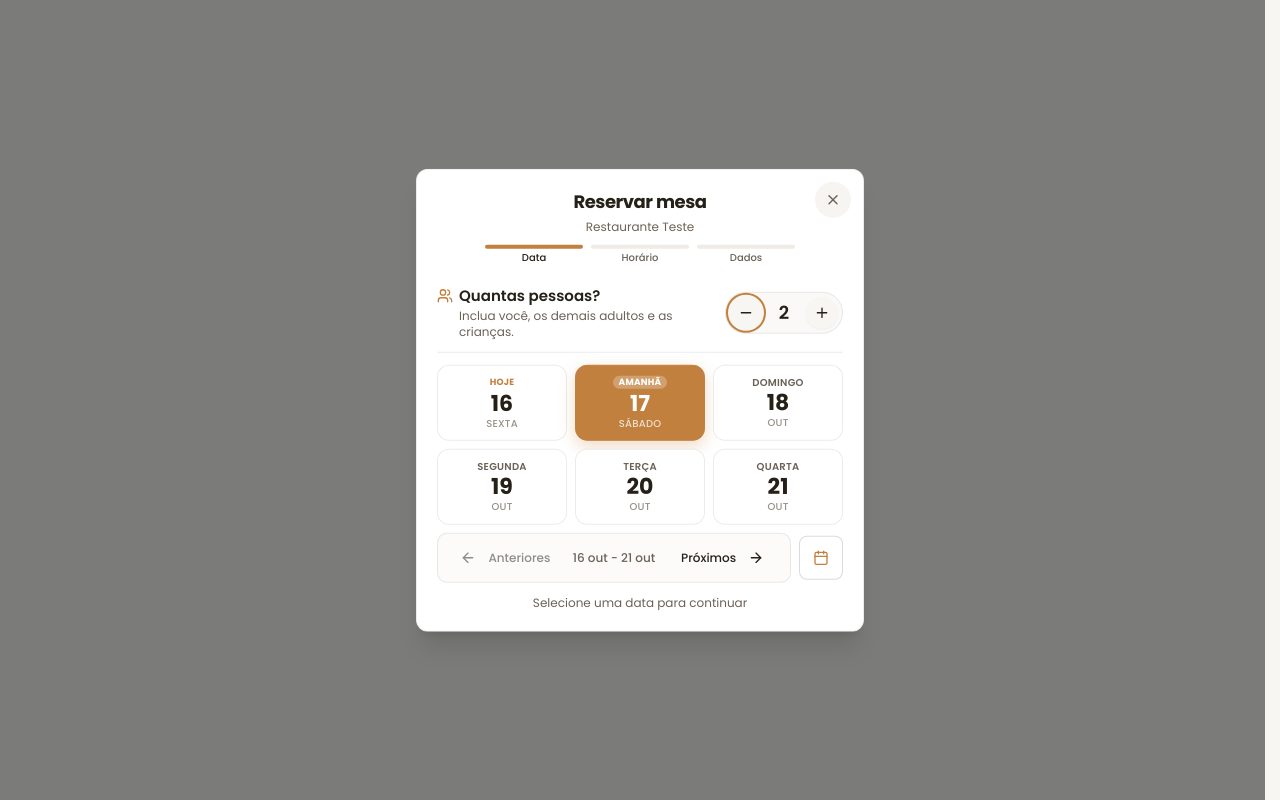
Scenario: ReservationModal › nao avanca com a resposta de uma quantidade que foi alterada durante a consulta
Click the button "Amanhã 17 sábado" at {"x": 640, "y": 402}, box [575, 364, 705, 440]
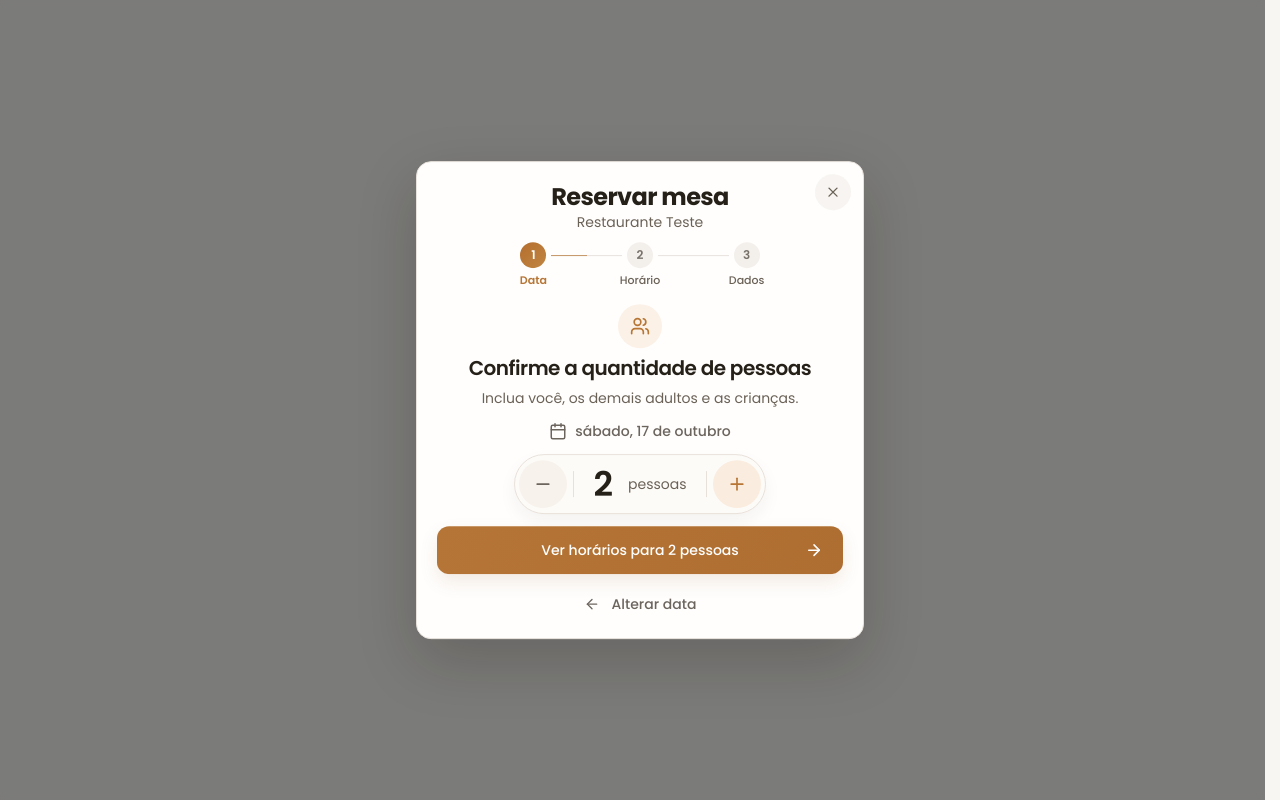
Click the button named "Aumentar número de pessoas" at {"x": 737, "y": 484}, box [713, 460, 761, 508]
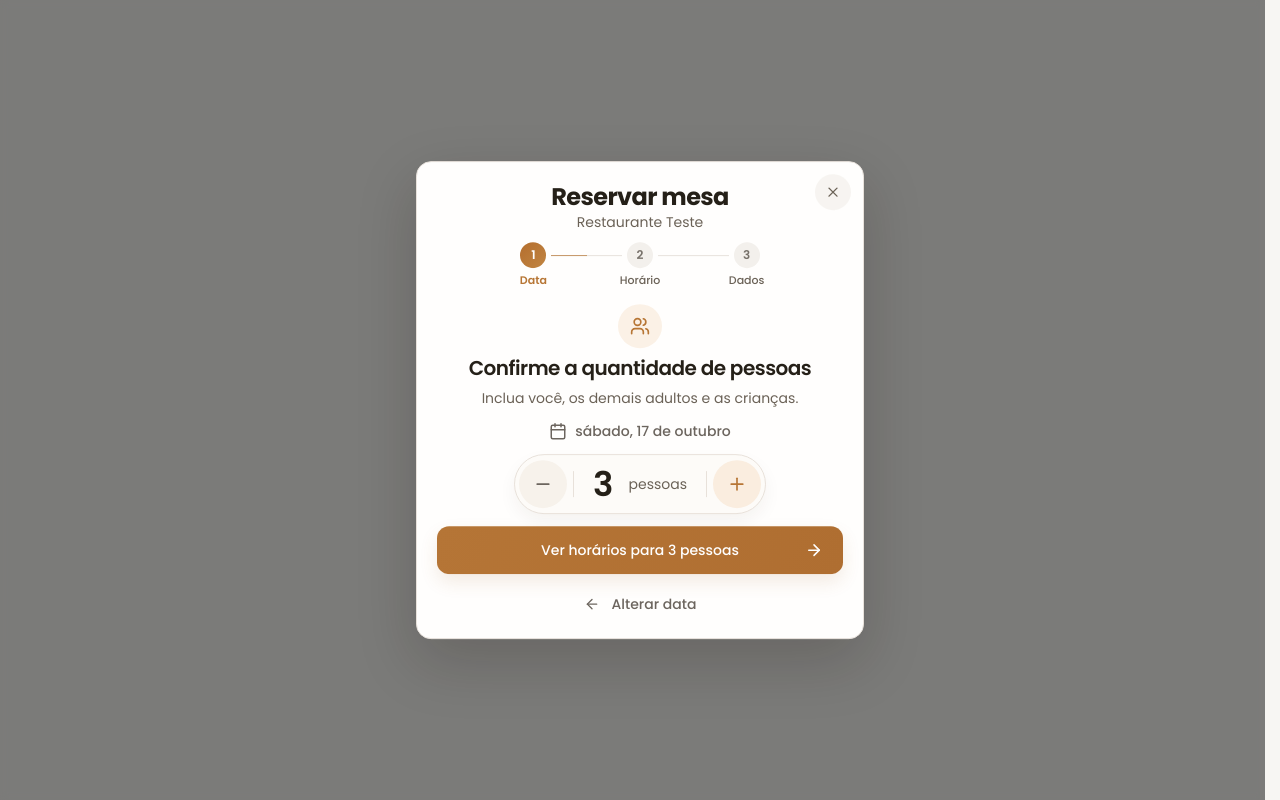
Click the button "Ver horários para 3 pessoas" at {"x": 640, "y": 550}, box [437, 526, 843, 574]
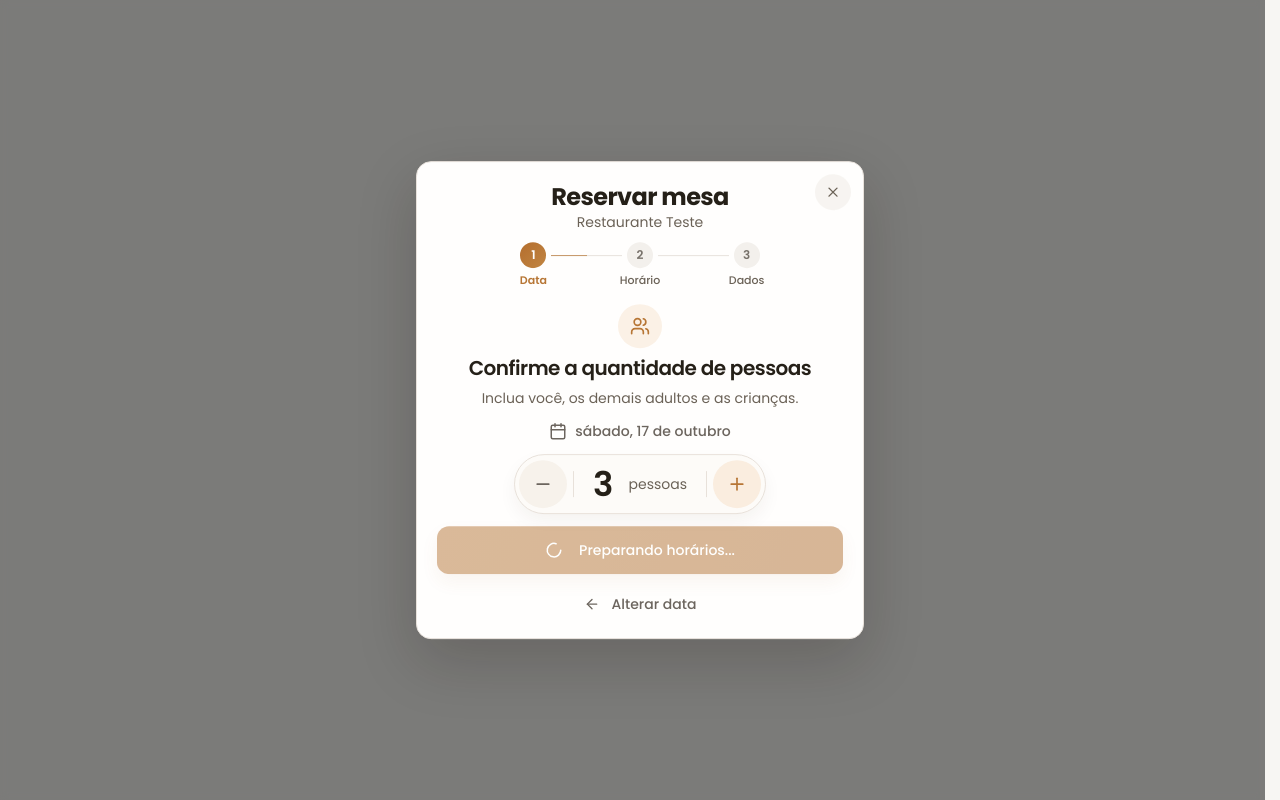
Click the button named "Aumentar número de pessoas" at {"x": 737, "y": 484}, box [713, 460, 761, 508]
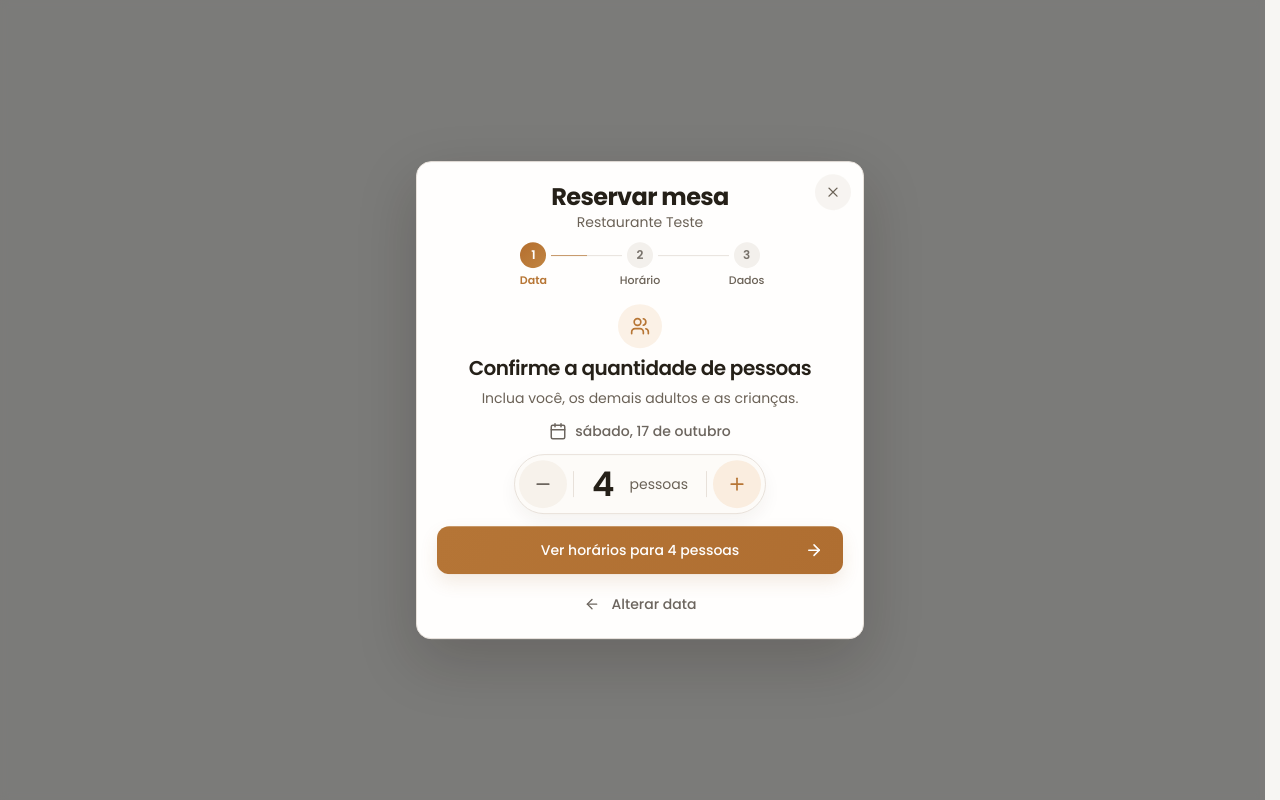
Expected: the button "18:00" is not shown
Expected: the heading "Confirme a quantidade de pessoas" is shown, [469, 354, 811, 382]
Expected: the button "Ver horários para 4 pessoas" is enabled
Click the button "Ver horários para 4 pessoas" at {"x": 640, "y": 550}, box [437, 526, 843, 574]
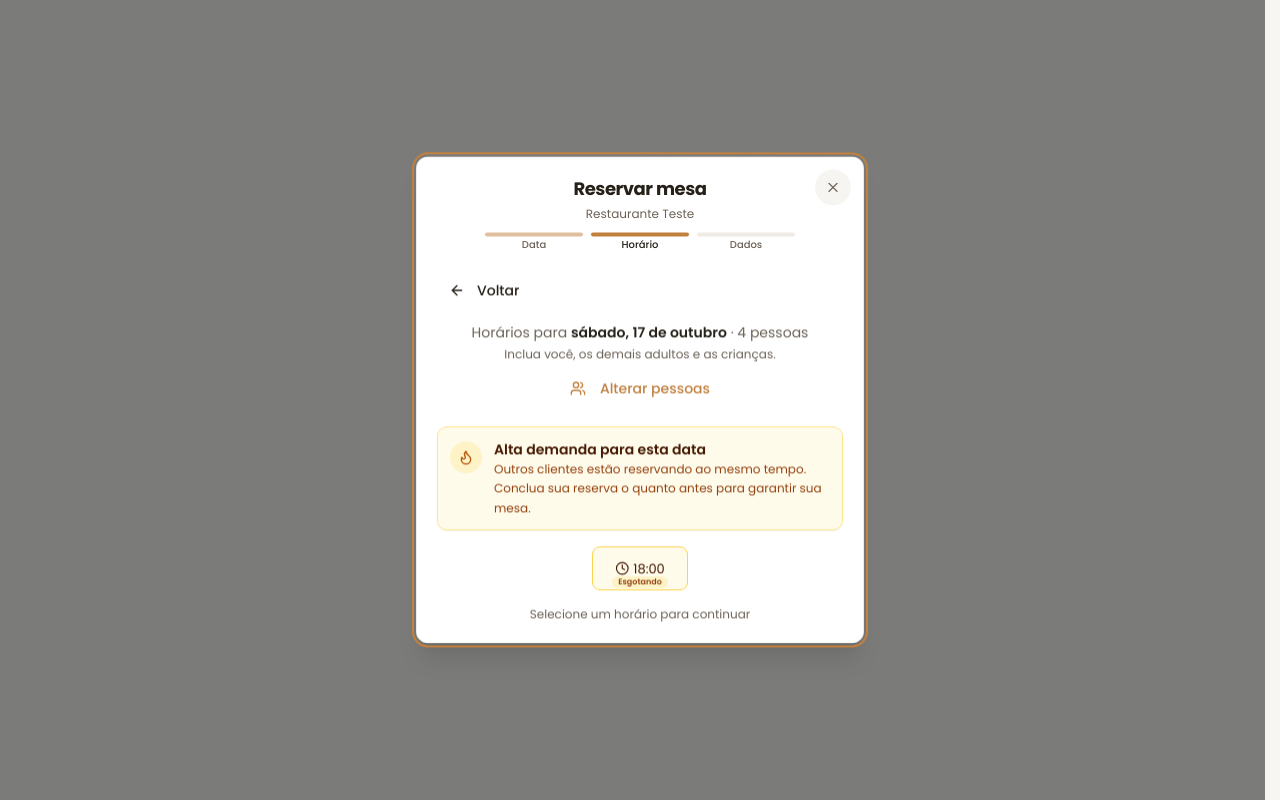
Expected: the button "18:00 Esgotando" is shown, [592, 547, 688, 591]
Expected: the text "· 4 pessoas" is shown, [472, 322, 808, 342]
